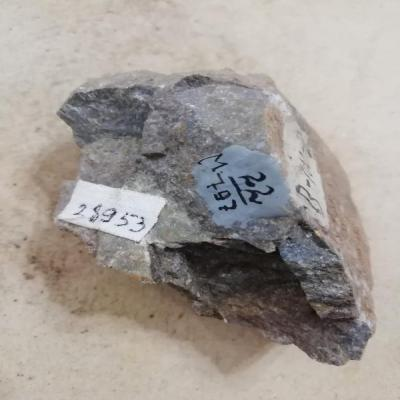mineralogy: (55, 70, 374, 364)
